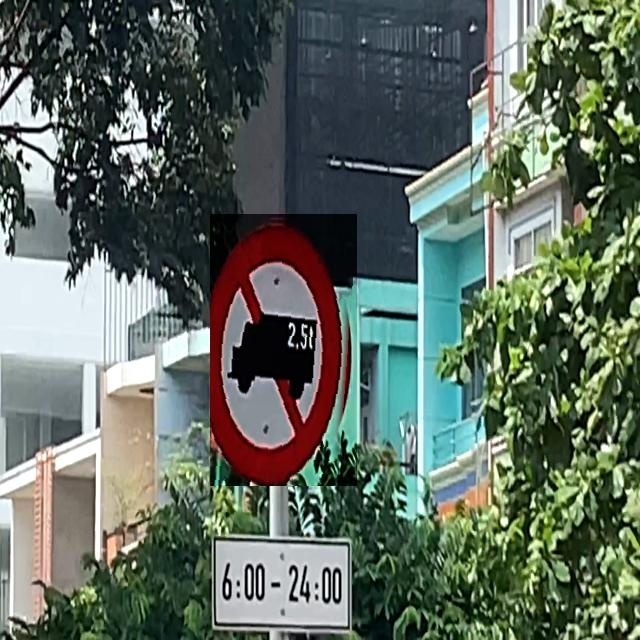bien_cam: (210, 214, 357, 486)
